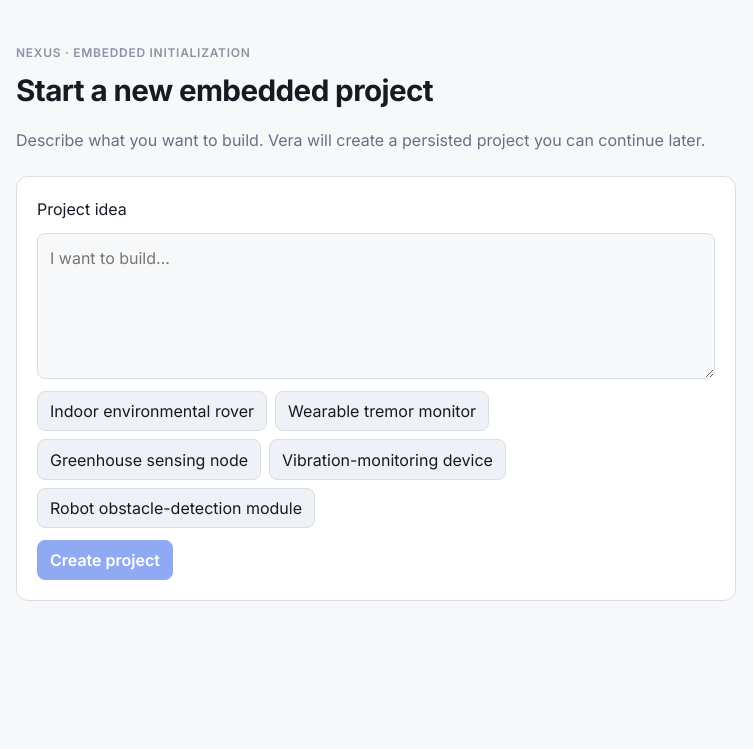
Test case: Nexus web routing and project workspace › shows unsupported initialization error
Type "I want a cooking robot" into the text box labelled "Project idea".
click(376, 306); type("I want a cooking robot")  # box [37,233,715,379]
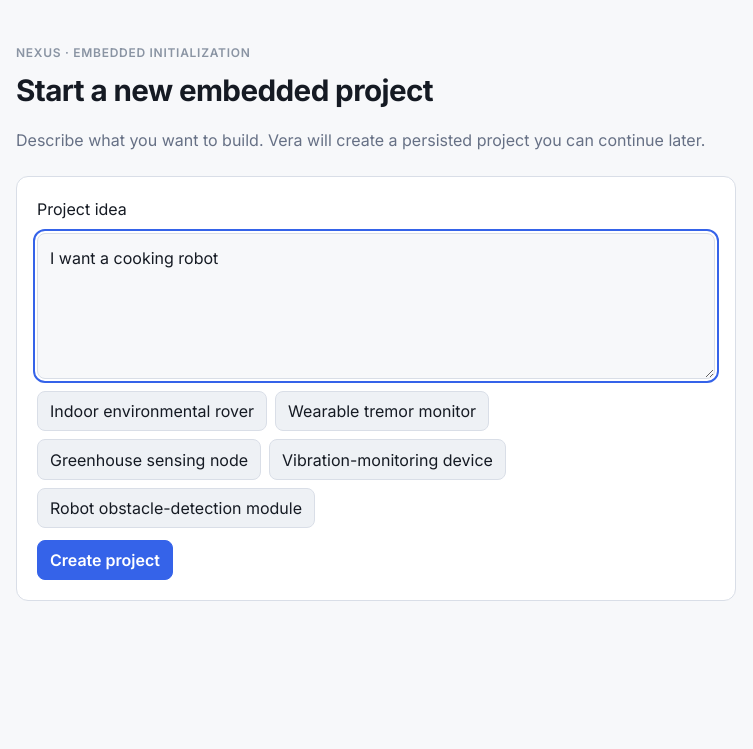
Click the button "Create project".
click(105, 560)  # box [37,540,173,580]
(page scrolled)
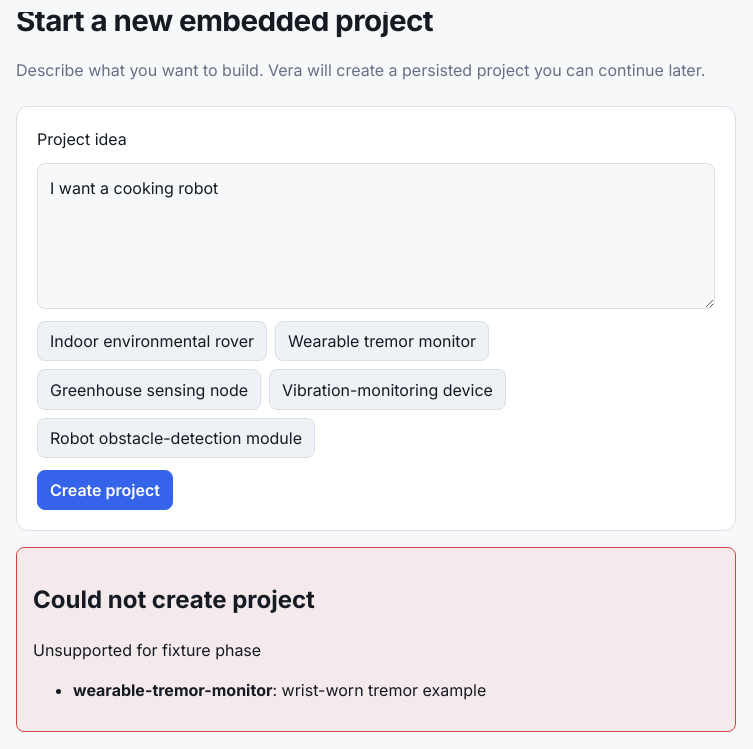
Check: the message shows "Unsupported for fixture phase", box [33,640,261,660]
